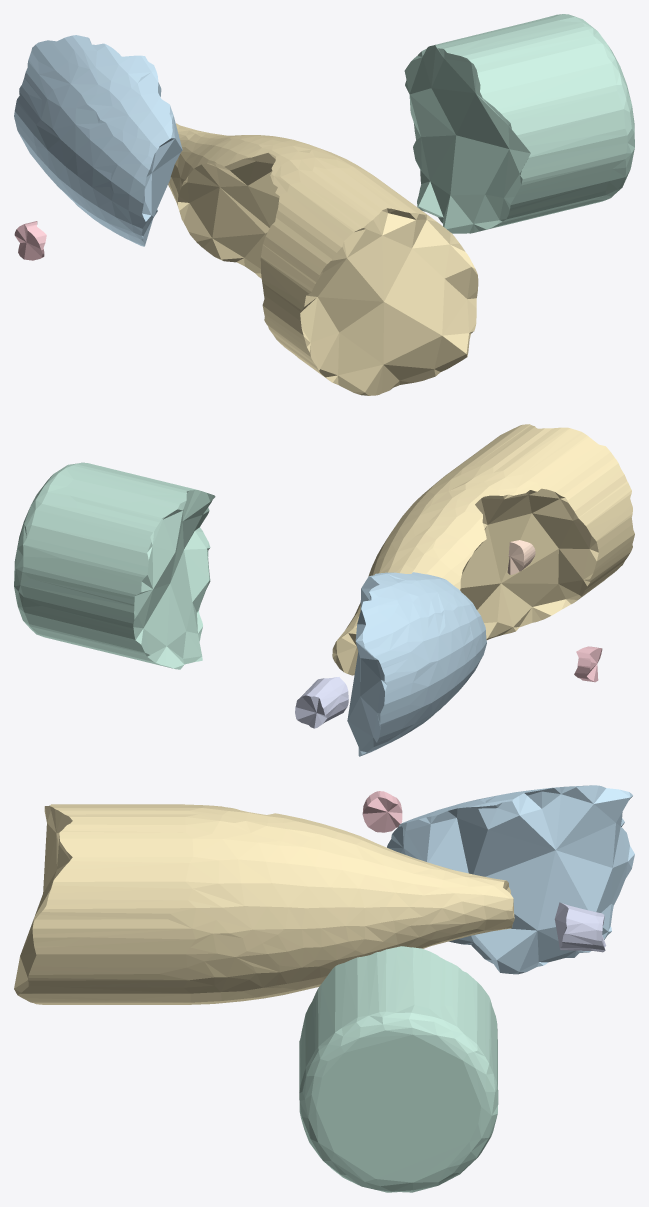
Rendered from view_input_colored.glb.
The picture shows the model from 3 angles, top to bottom: view 1: azimuth 30°, elevation 25°; view 2: azimuth 150°, elevation 25°; view 3: azimuth 270°, elevation 25°; orthographic projection. The views are drawn at different scales.
Visible parts, largest first — view 1: world; view 2: world; view 3: world.
Part boxes in pixels (<box>): world: <box>14,14,634,395</box>; world: <box>14,424,634,756</box>; world: <box>14,785,634,1192</box>.
Bounding box in the file's own units: 1.07 × 0.3444 × 0.9608.
